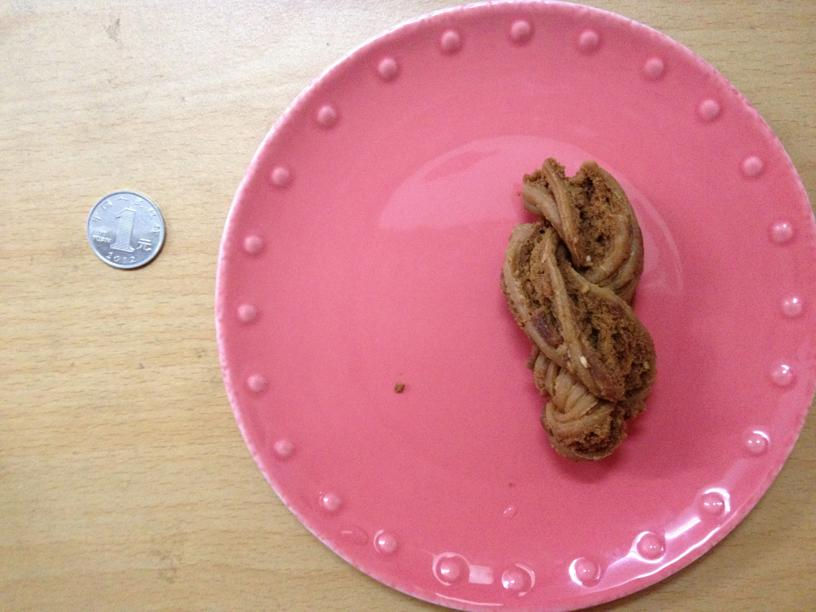coin: (88, 191, 167, 270)
fired_dough_twist: (505, 160, 660, 460)
